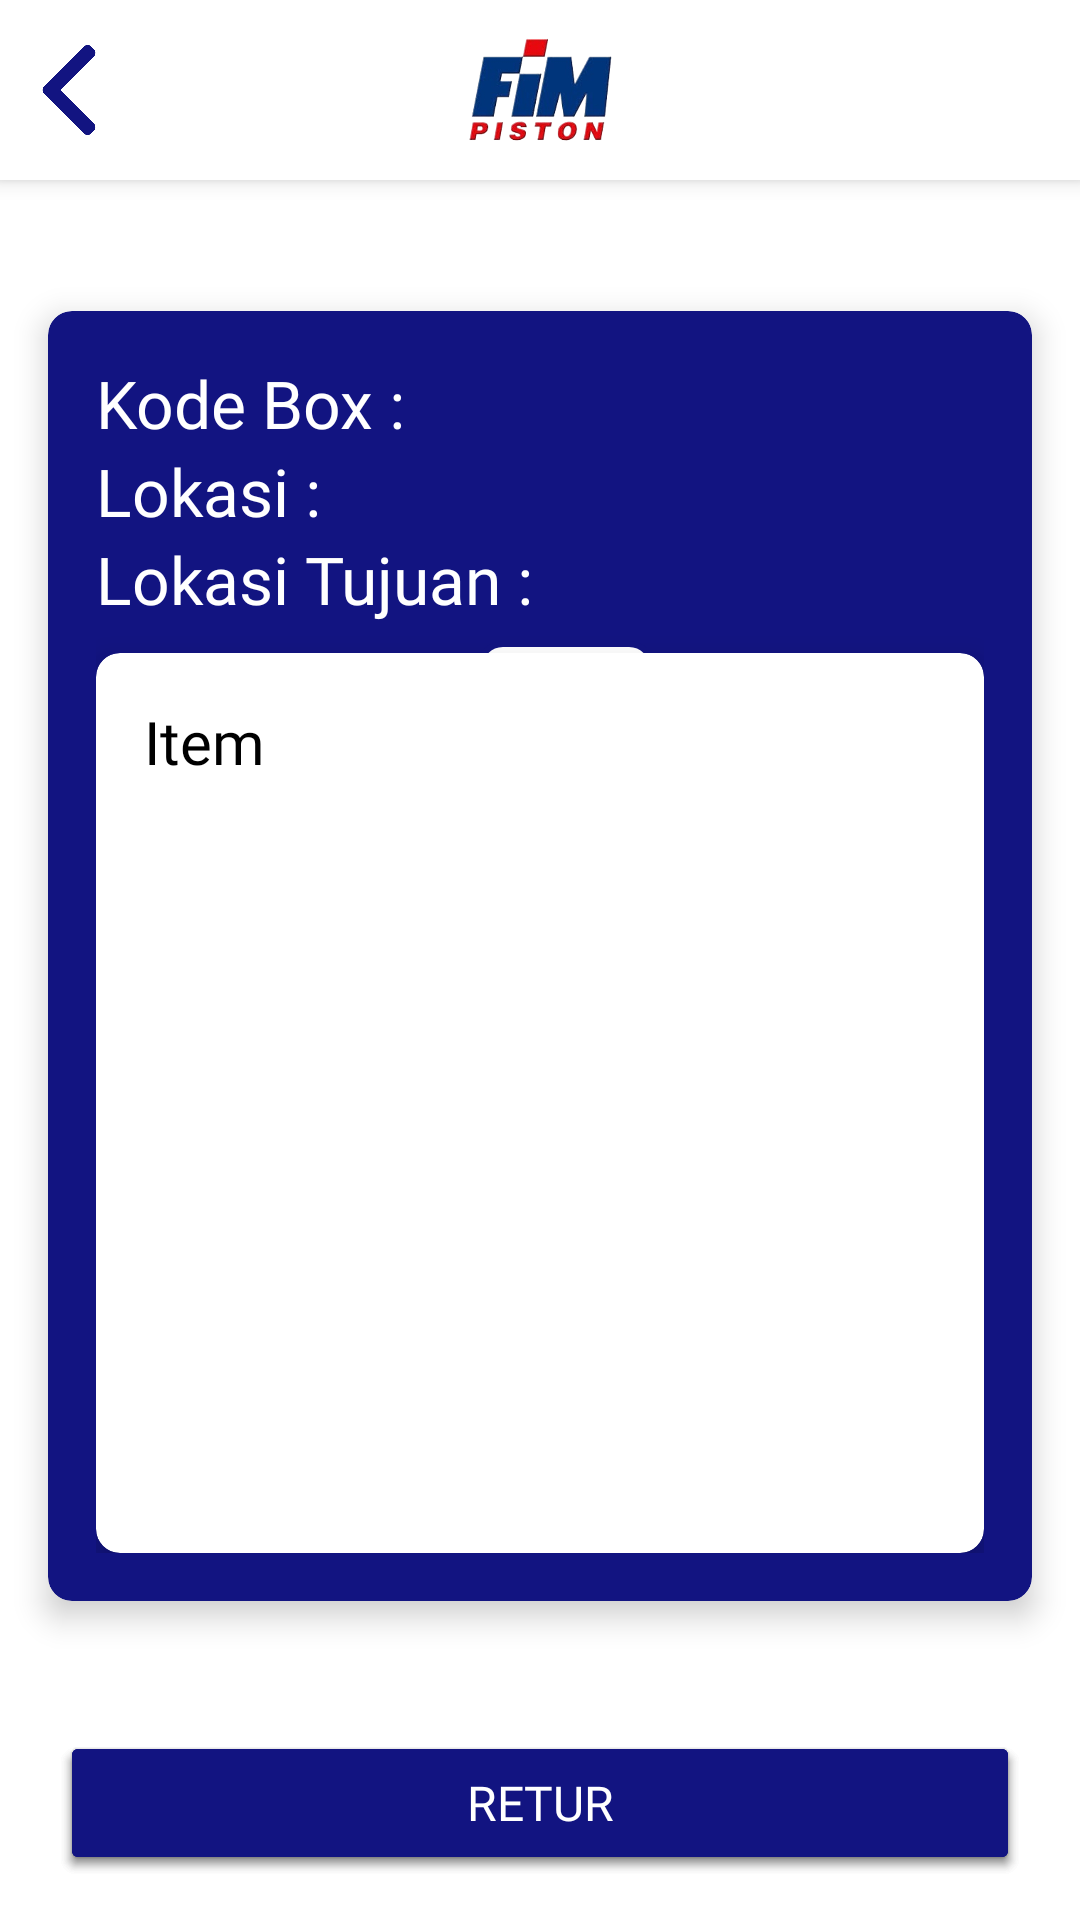

Icon bounding boxes for this 1080 × 1920 phone screenshot, format (x1, y1, x2, y2):
left arrow: (42, 45, 96, 135)
